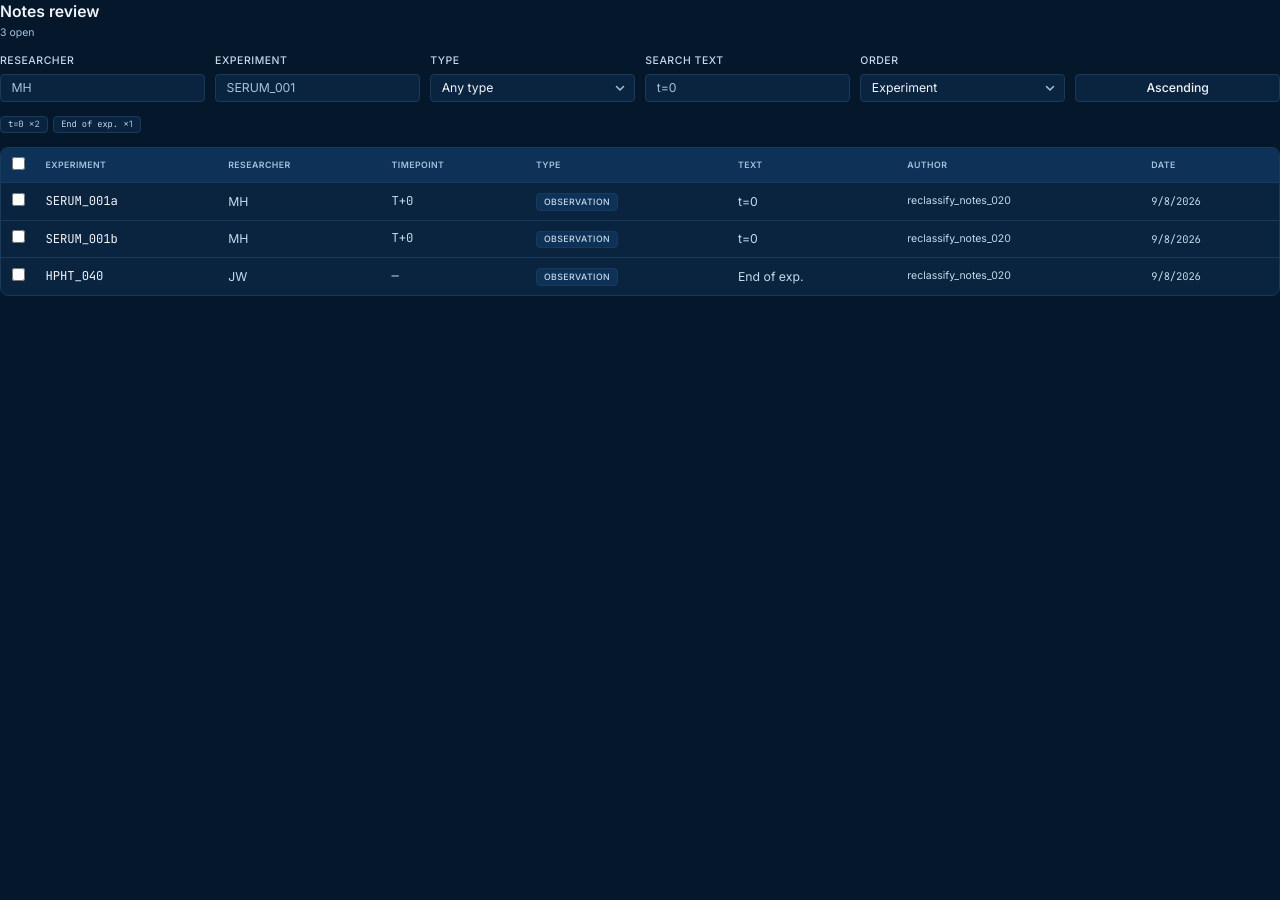
Test case: NotesReviewPage › a bulk error keeps the modal in sync: closes it and refetches so stale ids drop out
Check: the link "SERUM_001a" is shown, box [46,193,118,209]
Click the checkbox named "select note 1": (18, 199) [12,192,24,206]
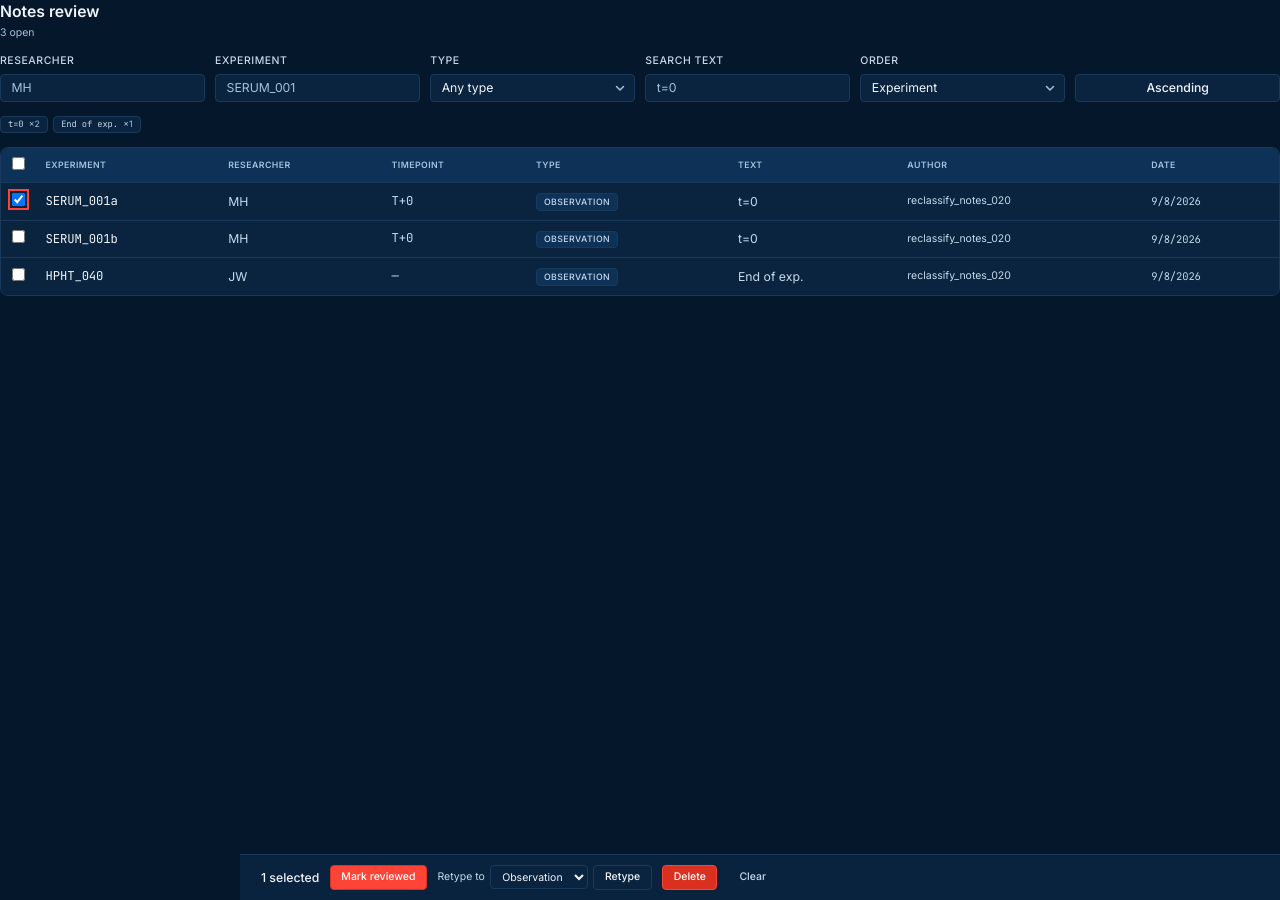
Click the checkbox named "select note 2": (18, 236) [12,230,24,243]
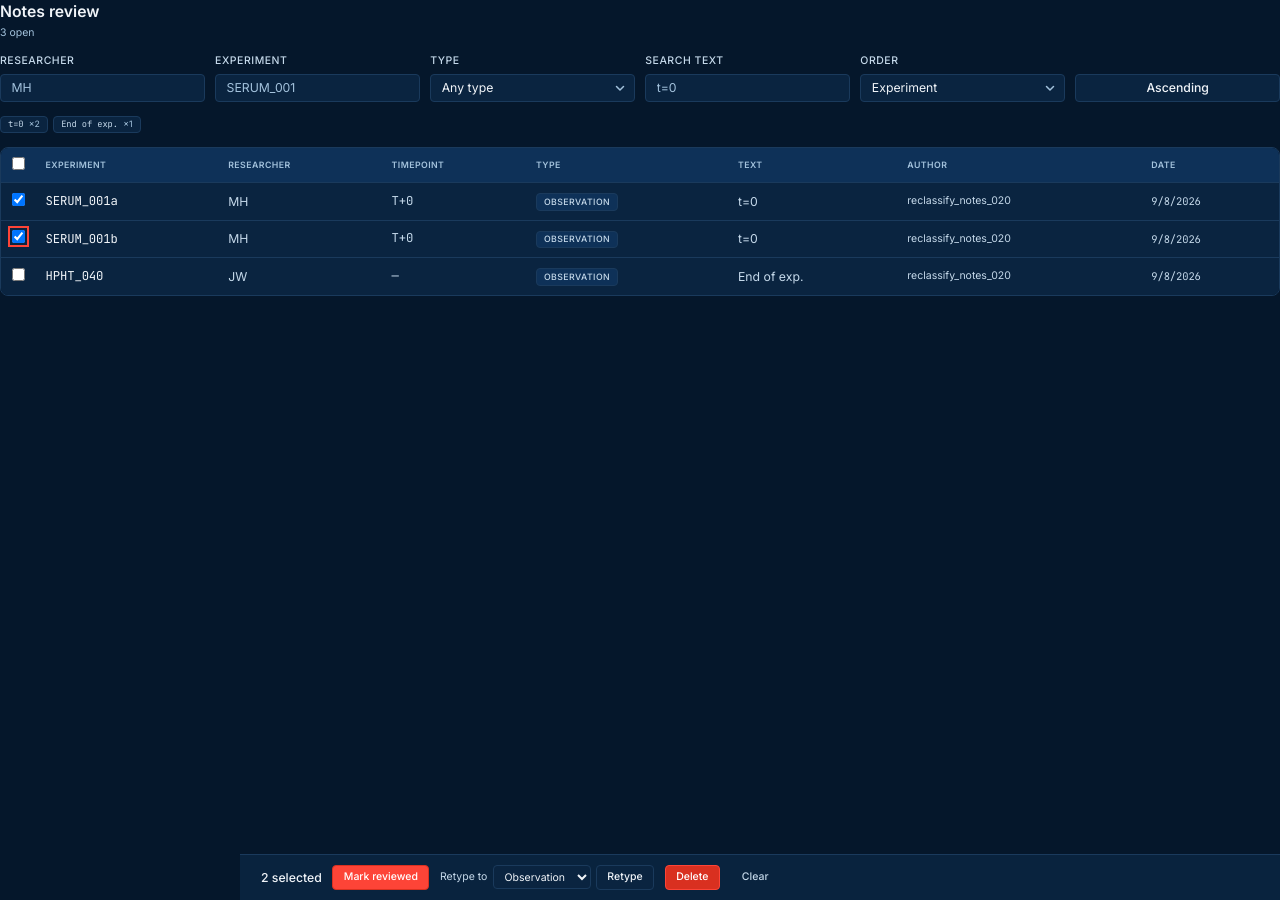
Click the button "Mark reviewed": (381, 877) [332,865,429,890]
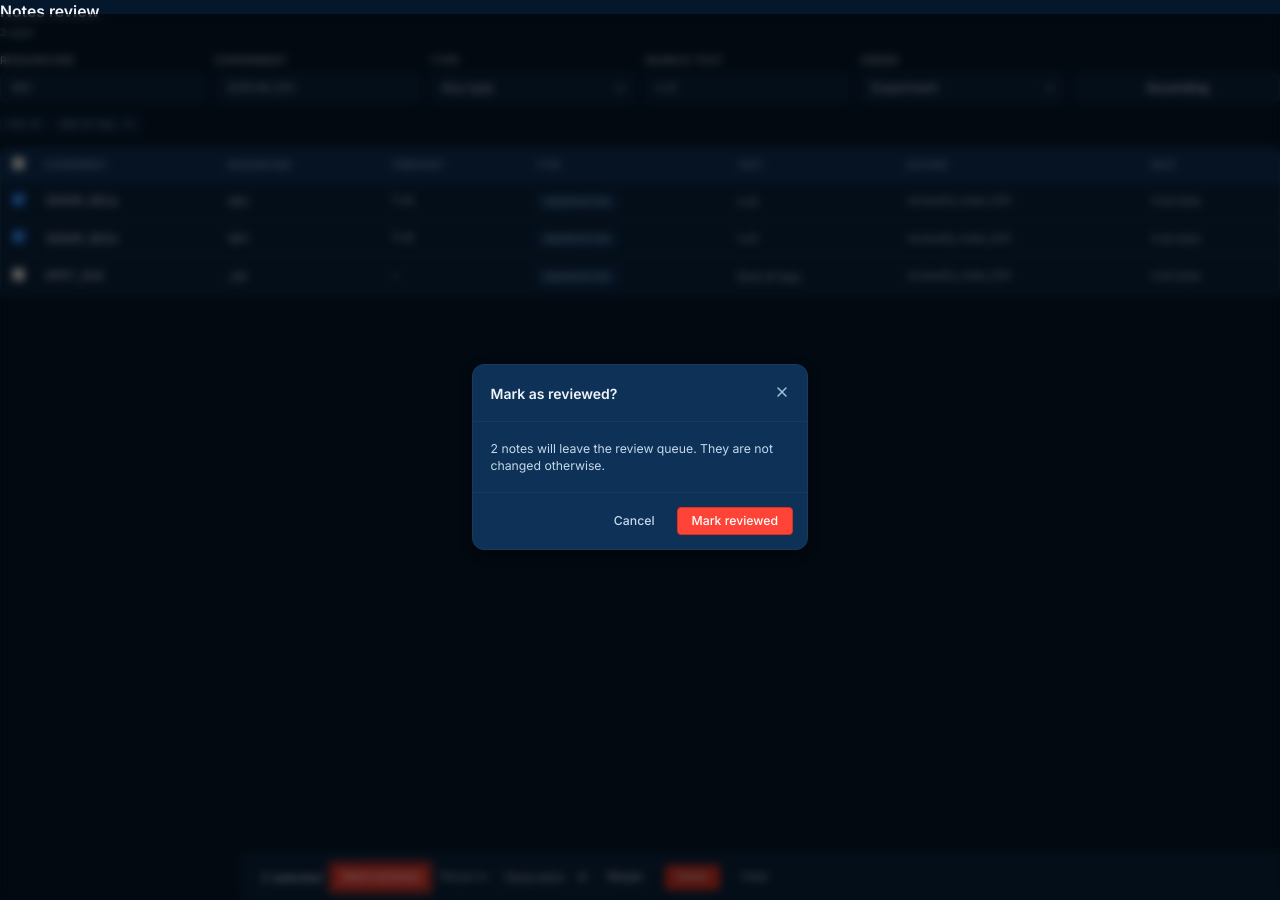
Click the button "Mark reviewed": (735, 521) [676,507,793,535]
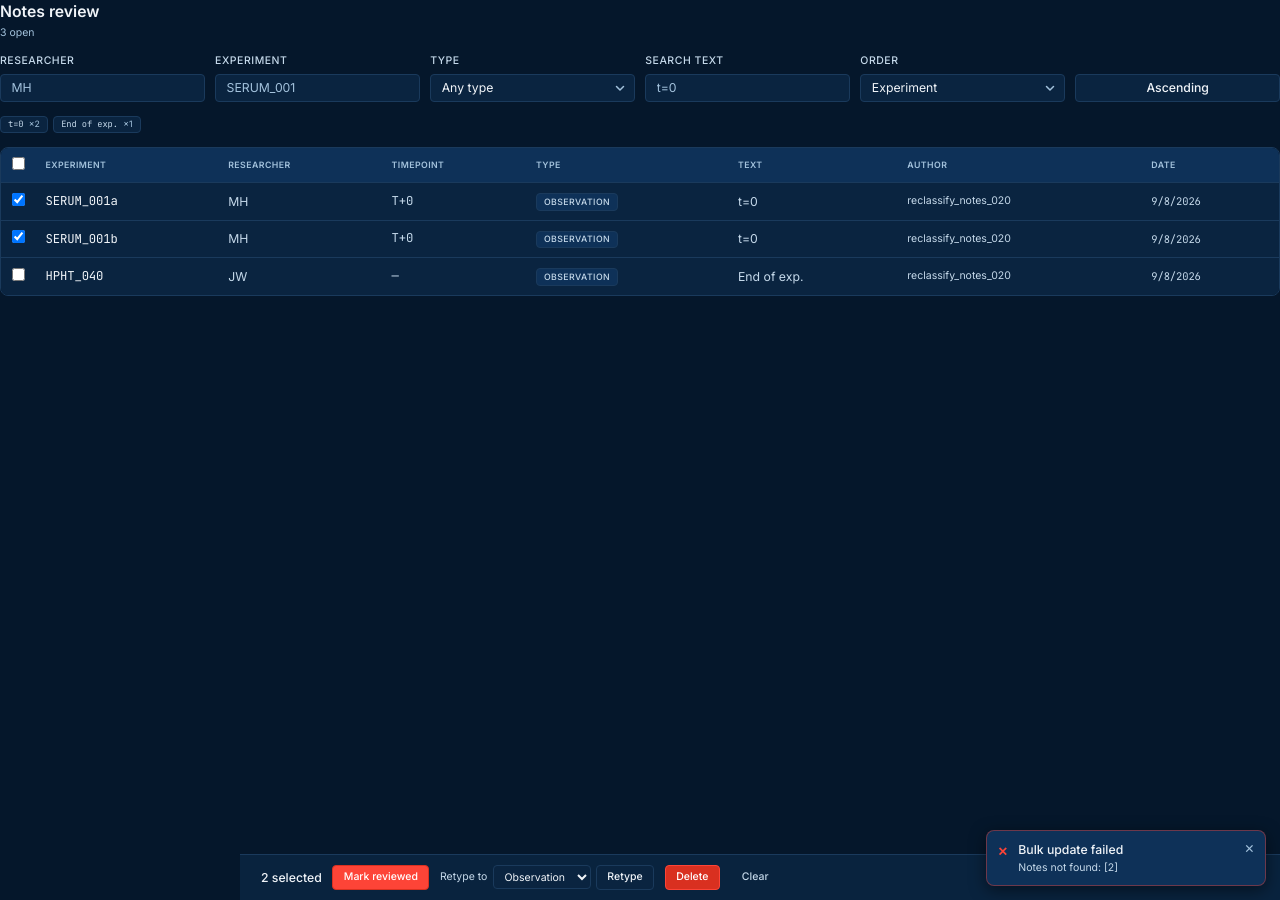
Check: the dialog is gone
